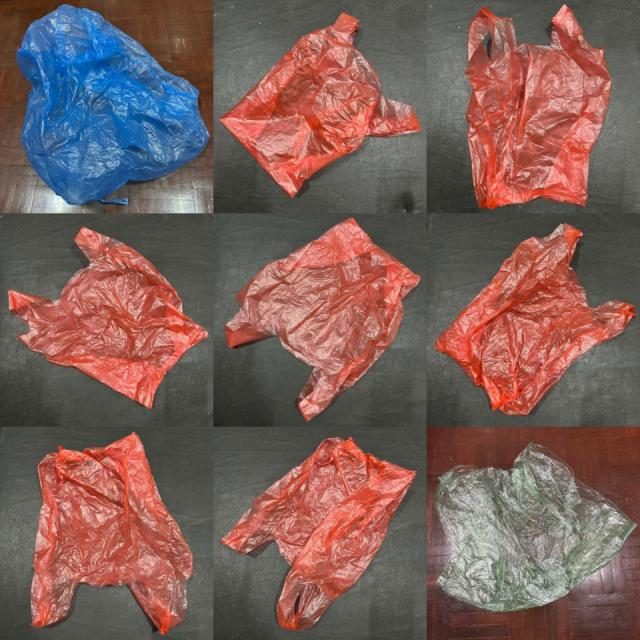Single-layer Plastic: (225, 219, 420, 421), (16, 5, 209, 204), (435, 224, 635, 415), (221, 438, 416, 629), (220, 14, 420, 197), (9, 228, 209, 408), (434, 442, 635, 611), (31, 434, 192, 633), (466, 6, 611, 208)
